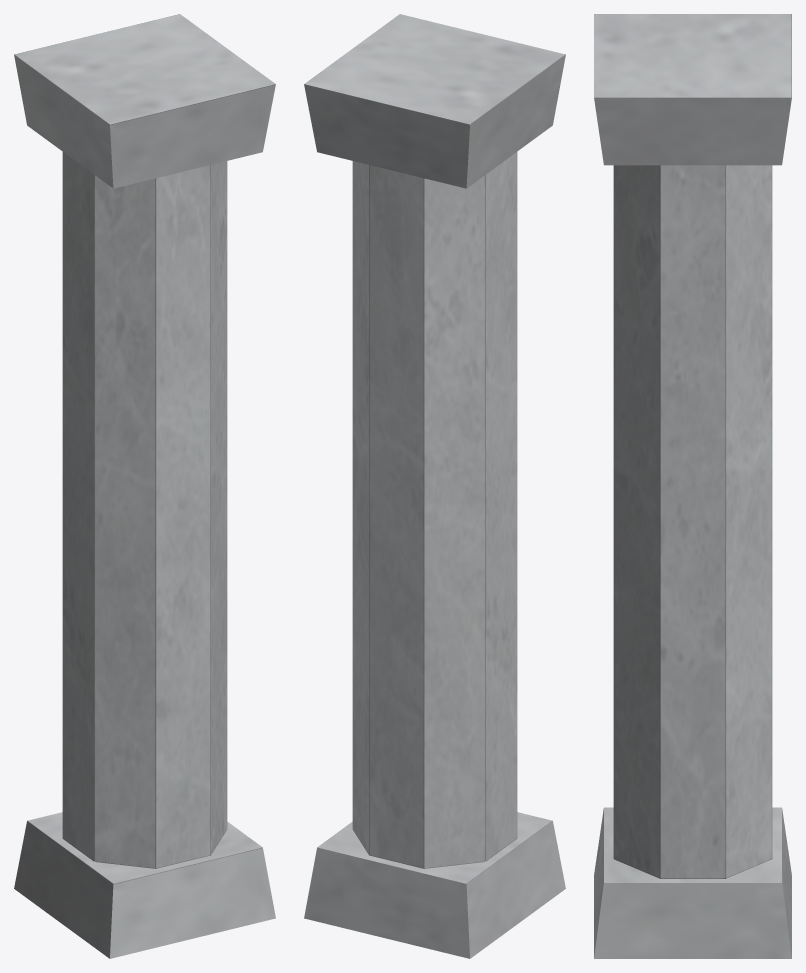
Rendered from castlePillar.fbx.
3 views of the same model, side by side, from view 1: azimuth 30°, elevation 25°; view 2: azimuth 150°, elevation 25°; view 3: azimuth 270°, elevation 25° (orthographic). The views are drawn at different scales.
Visible parts, largest first — view 1: cylinder, cuboid_1, cuboid; view 2: cylinder, cuboid_1, cuboid; view 3: cylinder, cuboid_1, cuboid.
Part boxes in pixels (<box>): cylinder: <box>62,152,227,868</box>; cuboid_1: <box>14,14,275,188</box>; cuboid: <box>14,812,275,958</box>; cylinder: <box>352,124,517,868</box>; cuboid_1: <box>304,14,565,188</box>; cuboid: <box>304,812,565,958</box>; cylinder: <box>613,165,772,878</box>; cuboid_1: <box>594,14,791,165</box>; cuboid: <box>594,807,791,958</box>.
Bounding box in the file's own units: 125 × 600 × 125.
Materials: 2 (2 with a texture image).
